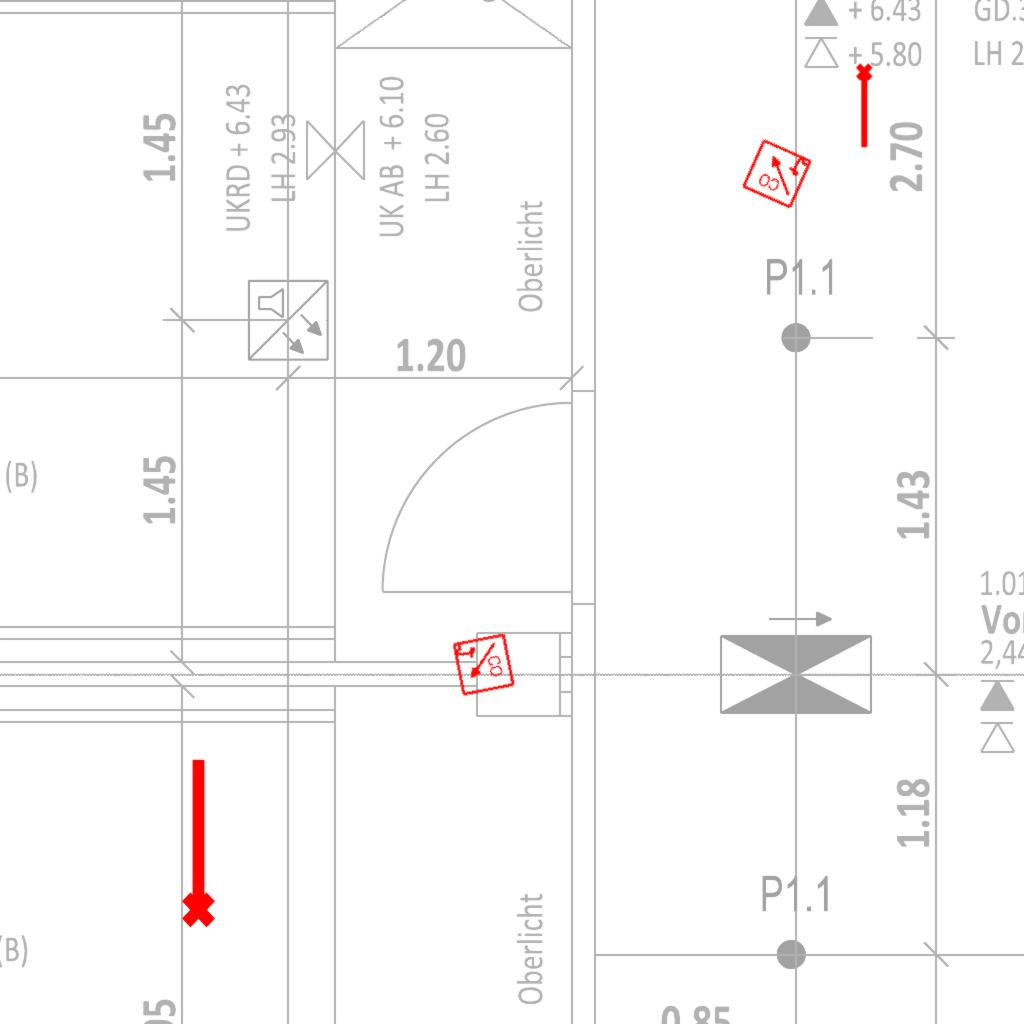ASR_Ansaugoeffnung: (173, 754, 219, 930), (854, 62, 877, 150)
ROA_Rauchmelder_optisch_mit_Signalgeber_(Sockelsirene): (740, 136, 814, 210), (450, 632, 516, 698)
